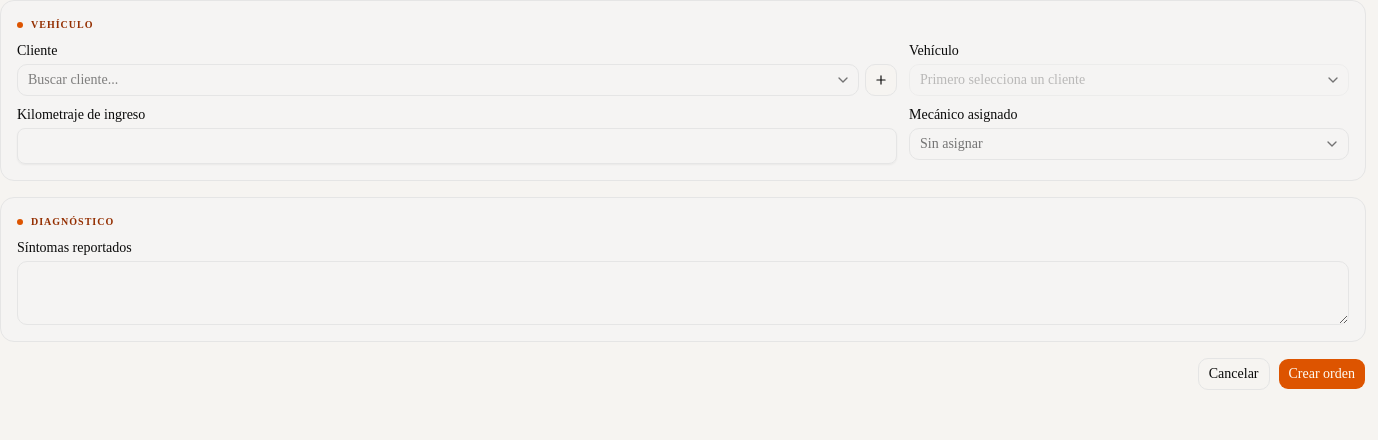
Test: NuevaOrdenDesdeCeroForm › shows the vehículo's last known kilometraje once it is selected, as a hint for kilometraje de ingreso
Expected: the text "Último kilometraje registrado" is not shown
Click the dropdown labelled "Cliente". click: [438, 80]
box: [17,64,859,96]
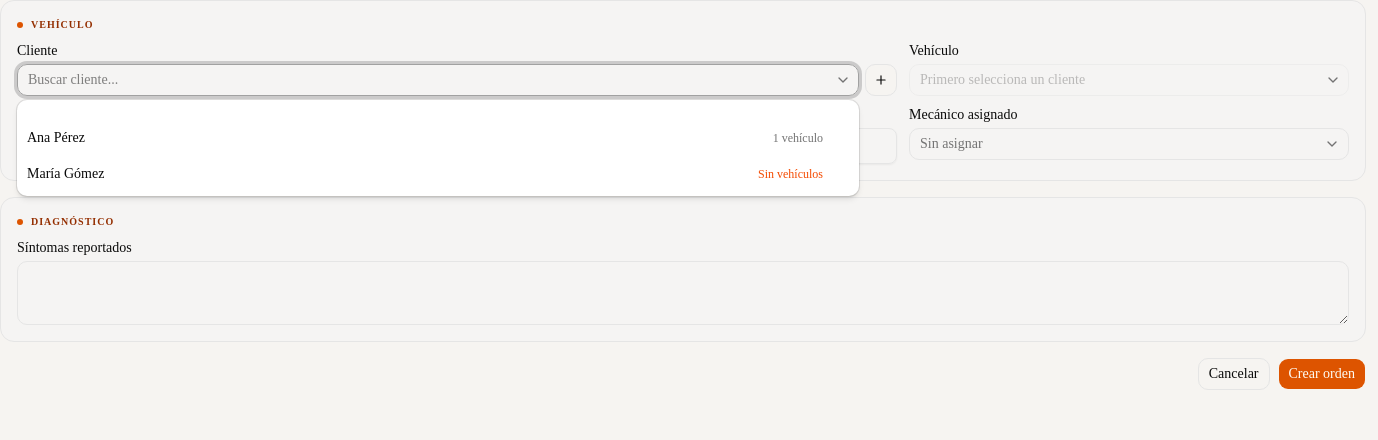
Click the option "Ana Pérez 1 vehículo". click: [56, 138]
box: [27,130,823,145]
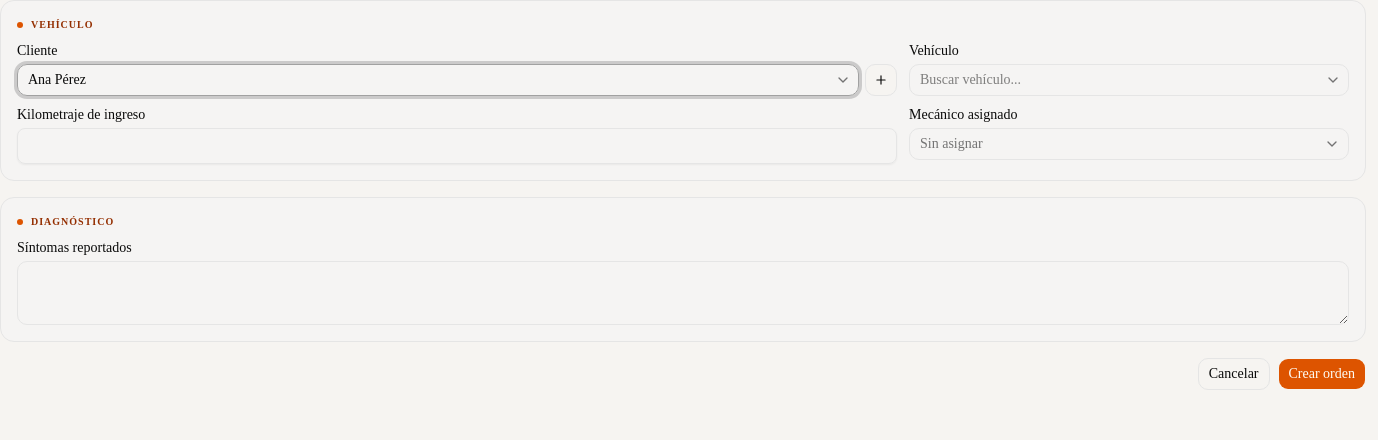
Click the dropdown labelled "Vehículo". click: [1129, 80]
box: [909,64,1349,96]
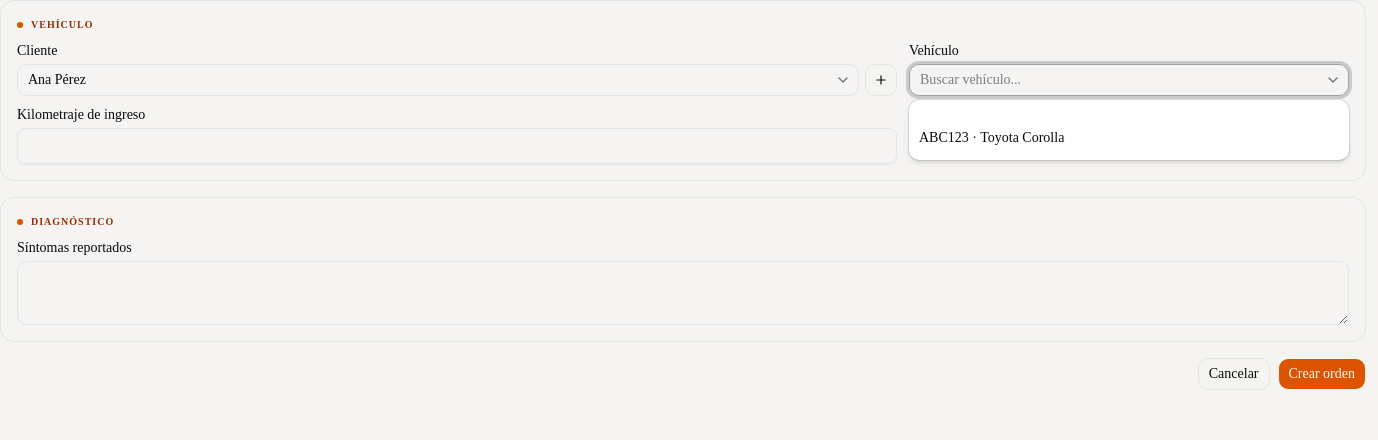
Click the option "ABC123 · Toyota Corolla". click: [992, 138]
box: [919,130,1064,145]
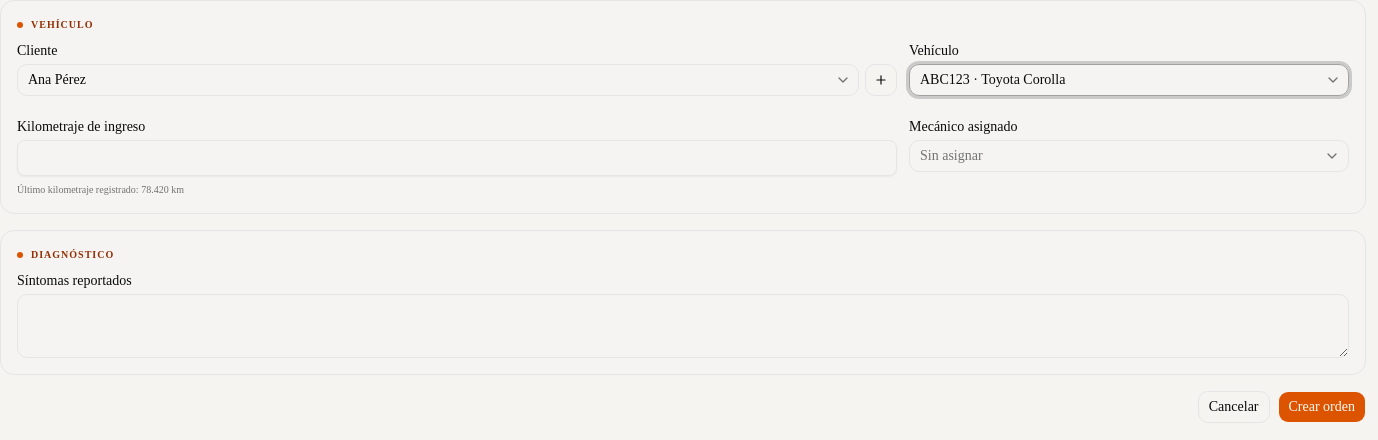
Expected: the text "Último kilometraje registrado: 78.420 km" is shown, [17,184,184,195]
